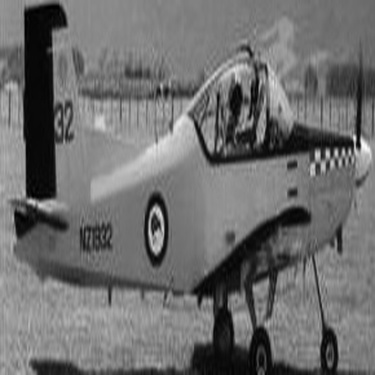airplane: (3, 5, 372, 370)
